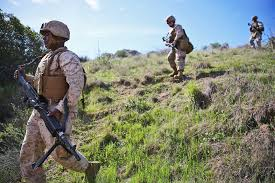gun: (14, 73, 80, 170), (161, 36, 179, 53), (247, 21, 257, 36)
